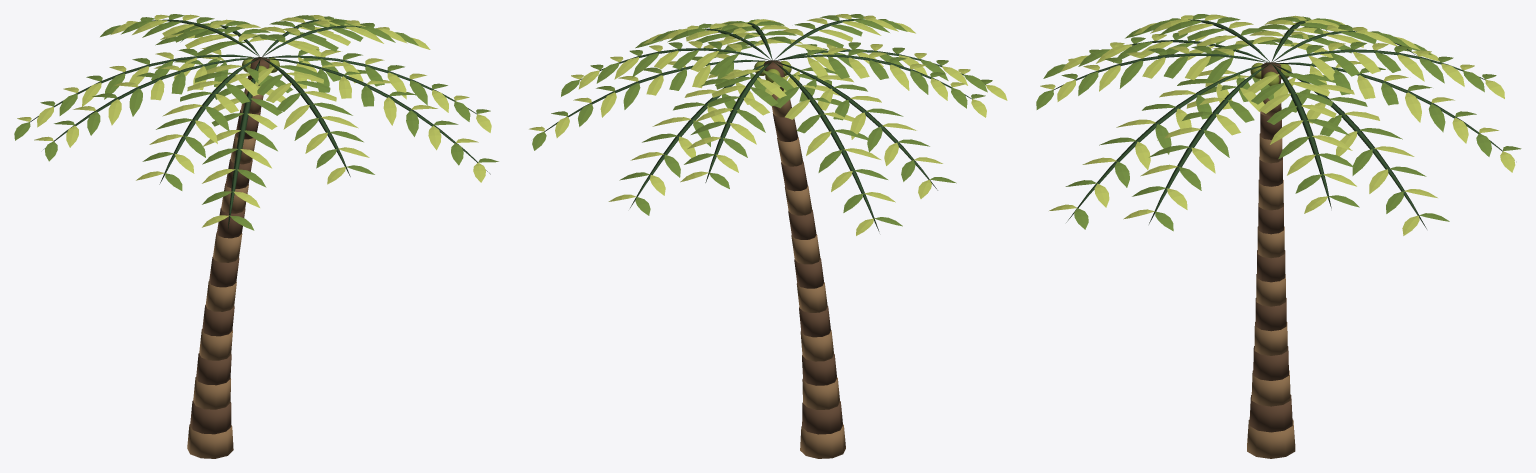
Rendered from palm_tree.glb.
3 renders of one model, left to right at view 1: azimuth 30°, elevation 25°; view 2: azimuth 150°, elevation 25°; view 3: azimuth 270°, elevation 25°, orthographic. The views are drawn at different scales.
Visible parts, largest first — view 1: crown__palm_leaf_mid_flat, crown__palm_leaf_light_flat, trunk__palm_bark_light, crown__palm_rachis, trunk__palm_bark_dark; view 2: crown__palm_leaf_mid_flat, crown__palm_leaf_light_flat, trunk__palm_bark_light, trunk__palm_bark_dark, crown__palm_rachis; view 3: crown__palm_leaf_light_flat, crown__palm_leaf_mid_flat, crown__palm_rachis, trunk__palm_bark_light, trunk__palm_bark_dark.
Boxes of the visible parts, x1=… form: crown__palm_leaf_mid_flat: x1=14, y1=14, x2=498, y2=230; crown__palm_leaf_light_flat: x1=17, y1=14, x2=491, y2=227; trunk__palm_bark_light: x1=187, y1=88, x2=263, y2=458; crown__palm_rachis: x1=30, y1=19, x2=490, y2=228; trunk__palm_bark_dark: x1=190, y1=57, x2=270, y2=434; crown__palm_leaf_mid_flat: x1=532, y1=14, x2=992, y2=226; crown__palm_leaf_light_flat: x1=529, y1=14, x2=1007, y2=235; trunk__palm_bark_light: x1=771, y1=94, x2=845, y2=458; trunk__palm_bark_dark: x1=763, y1=60, x2=842, y2=434; crown__palm_rachis: x1=544, y1=19, x2=985, y2=231; crown__palm_leaf_light_flat: x1=1040, y1=14, x2=1515, y2=235; crown__palm_leaf_mid_flat: x1=1036, y1=14, x2=1521, y2=231; crown__palm_rachis: x1=1053, y1=19, x2=1502, y2=228; trunk__palm_bark_light: x1=1247, y1=98, x2=1295, y2=458; trunk__palm_bark_dark: x1=1249, y1=62, x2=1292, y2=432.
Size of the model in its own units: 6.84 by 6.56 by 6.89.
